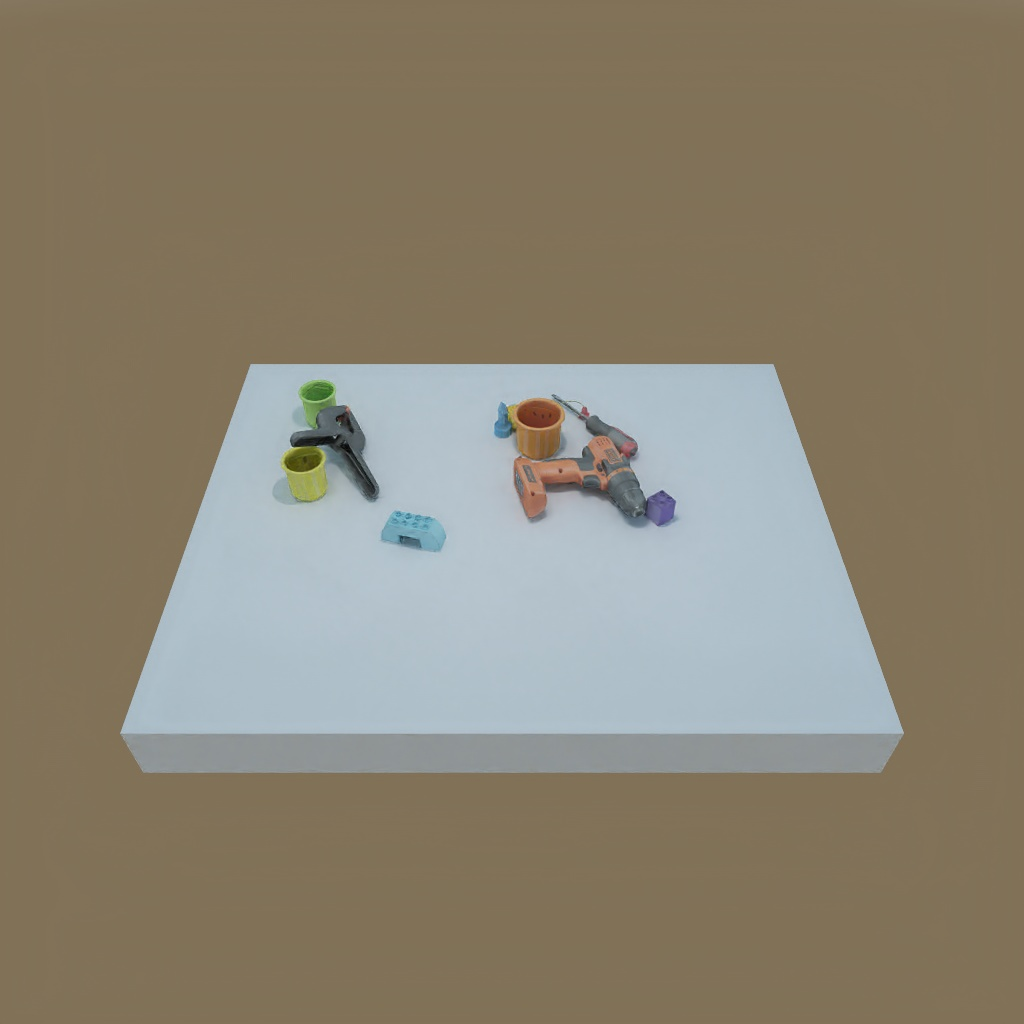power_drill: (500, 432, 645, 524)
